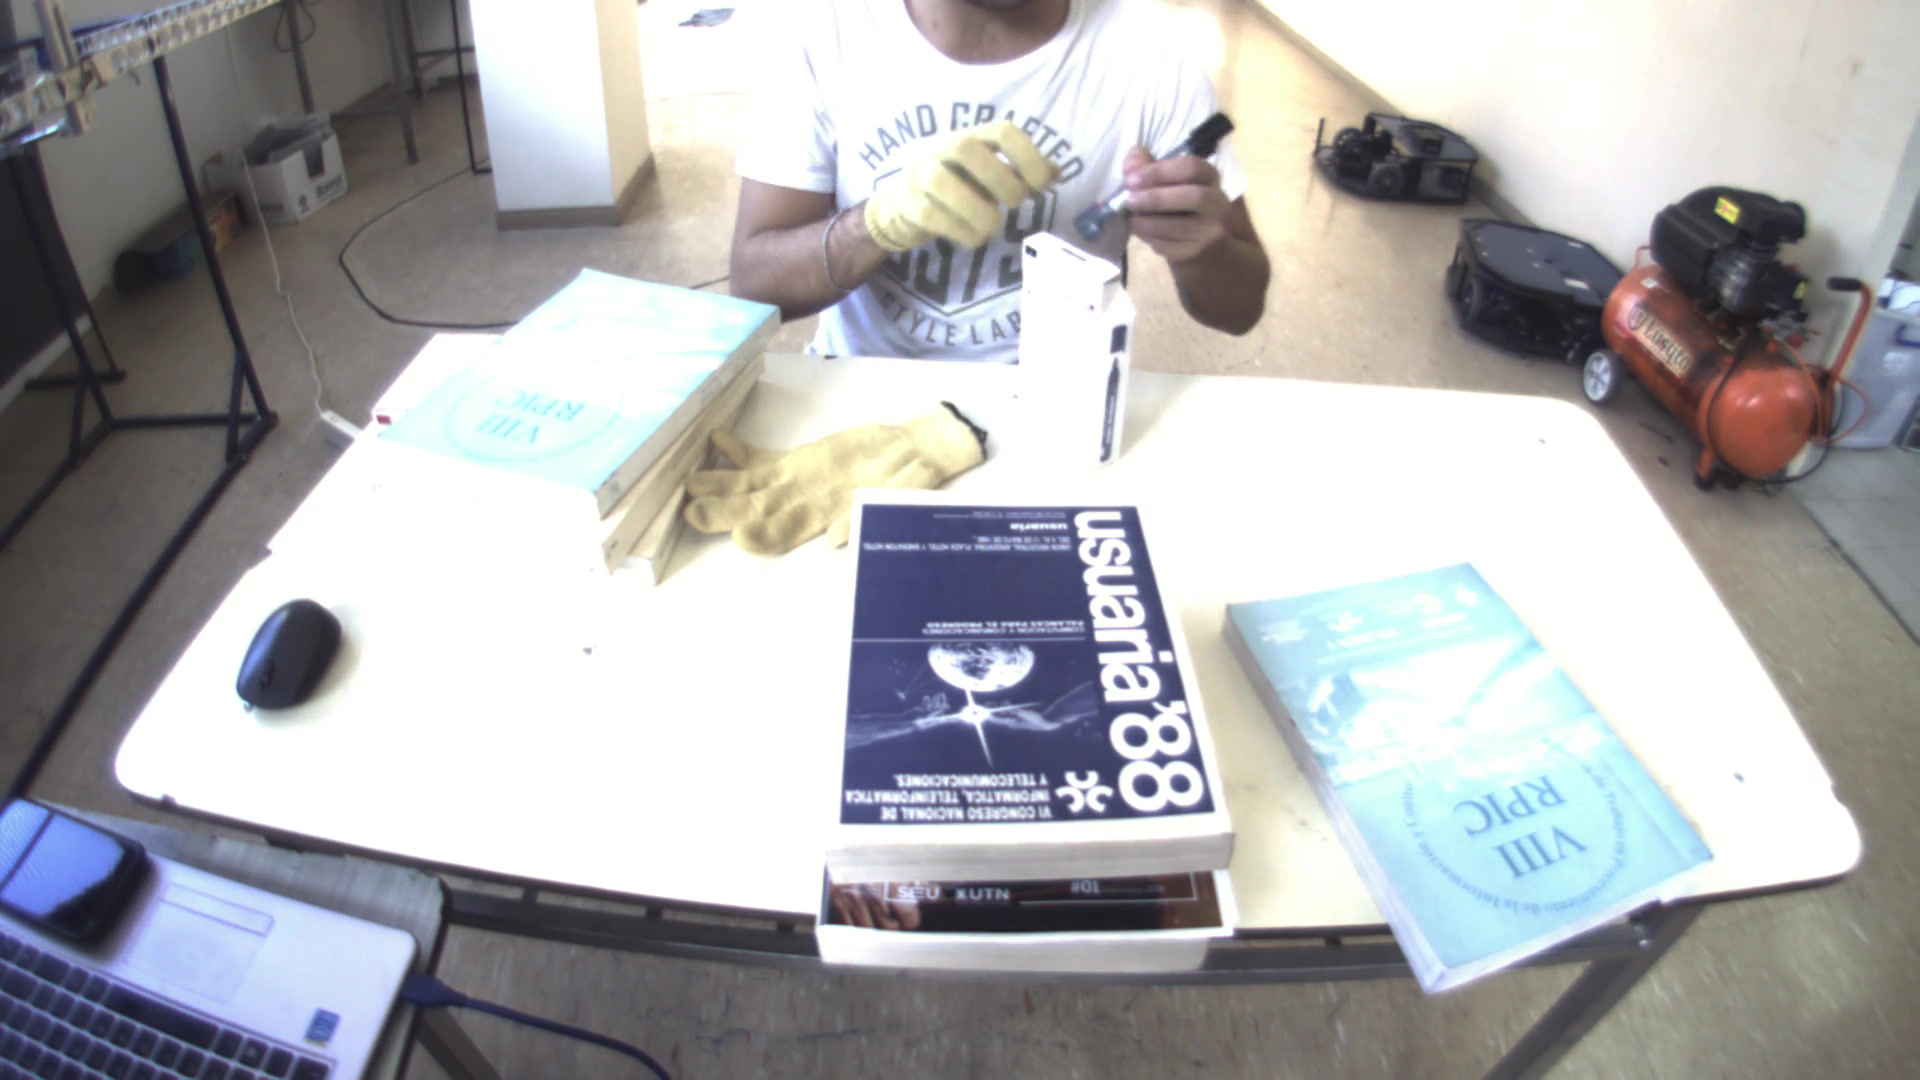hand: (855, 105, 1067, 257), (1110, 109, 1251, 282)
